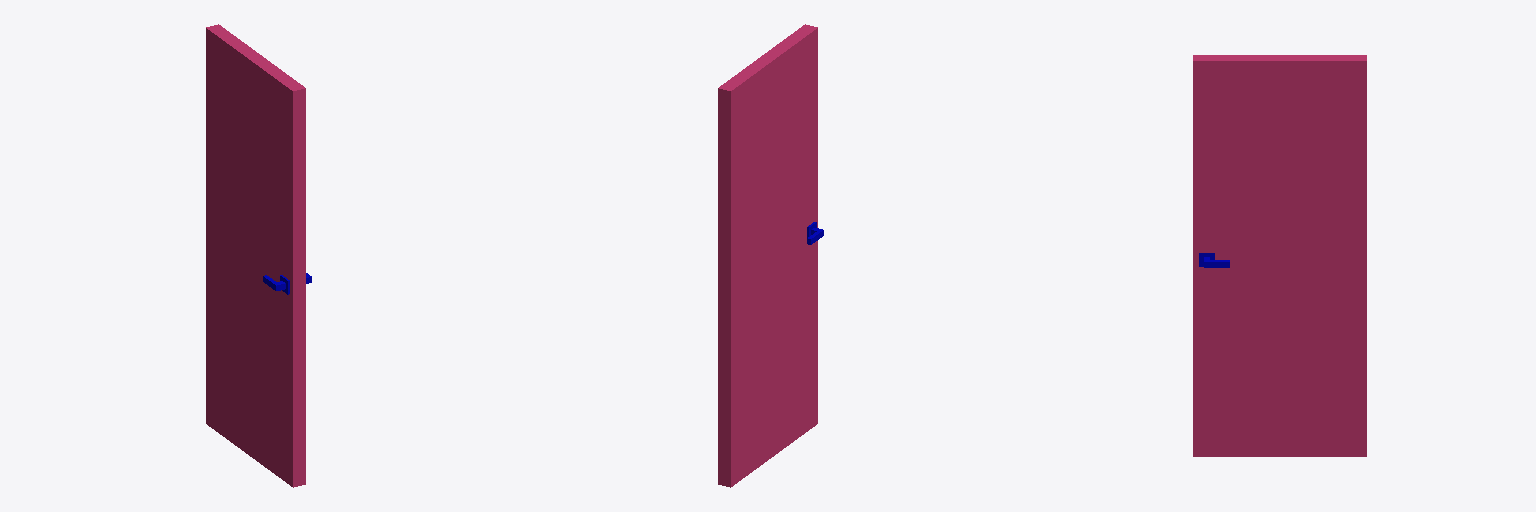
File: dvery5.obj
3 views of the same model, side by side, from view 1: azimuth 30°, elevation 25°; view 2: azimuth 150°, elevation 25°; view 3: azimuth 270°, elevation 25° (orthographic).
Parts seen in each view (by area): view 1: off; view 2: off; view 3: off.
Boxes of the visible parts, x1,y1,x2,y2 form: off: [206, 24, 311, 487]; off: [718, 24, 823, 487]; off: [1193, 55, 1366, 456].
Bounding box in the file's own units: 0.1899 × 2 × 0.7997.